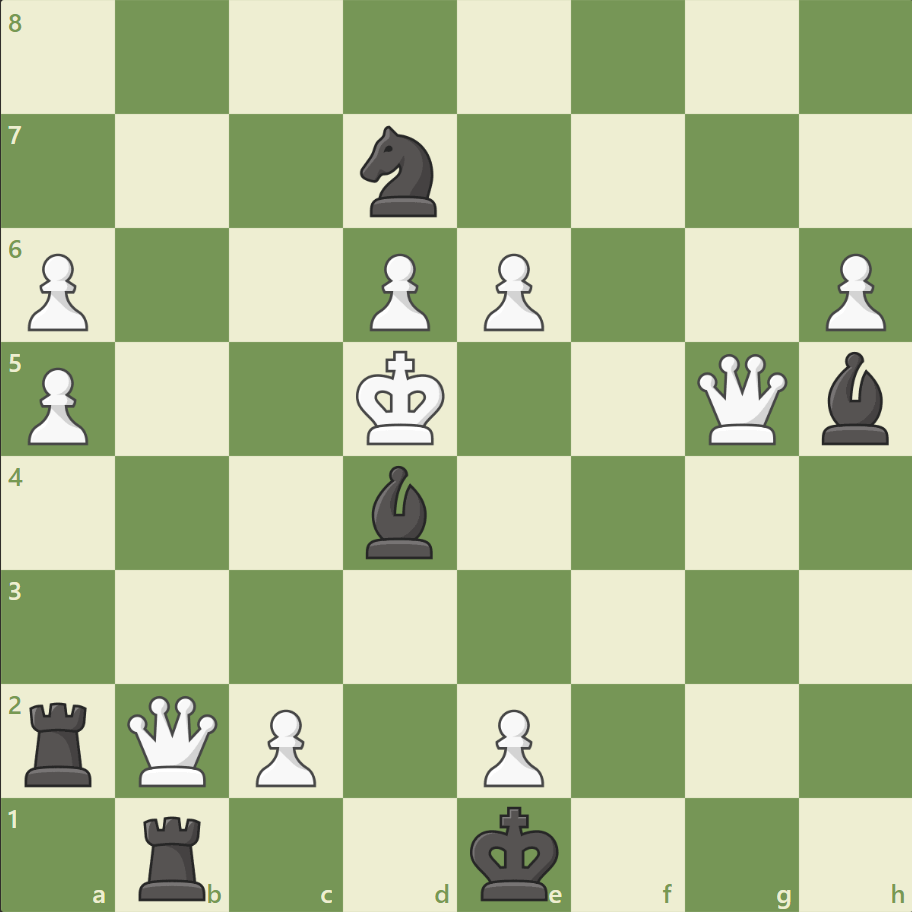K: (351, 344, 451, 452)
P: (20, 246, 95, 337), (474, 246, 549, 337), (20, 359, 95, 450), (247, 700, 322, 791), (474, 700, 549, 791), (361, 246, 435, 337), (815, 246, 889, 337)
Q: (691, 349, 790, 449), (124, 690, 223, 789)
b: (358, 460, 442, 563), (812, 347, 896, 449)
k: (465, 798, 565, 906)
n: (351, 121, 449, 223)
r: (19, 693, 102, 790), (133, 806, 215, 904)
